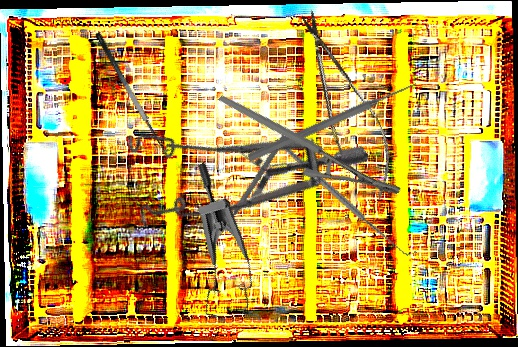Hook Surgical: (274, 109, 417, 284)
Micro Scissor: (281, 0, 410, 210)
Needle Holder: (218, 48, 403, 240)
Pusher: (246, 78, 420, 164), (215, 133, 289, 239)
Spatula Surgical: (94, 25, 176, 159)
Speculum: (96, 29, 372, 286), (138, 160, 284, 334)
